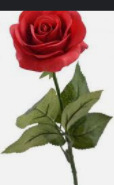RedRose: (5, 11, 91, 77)
